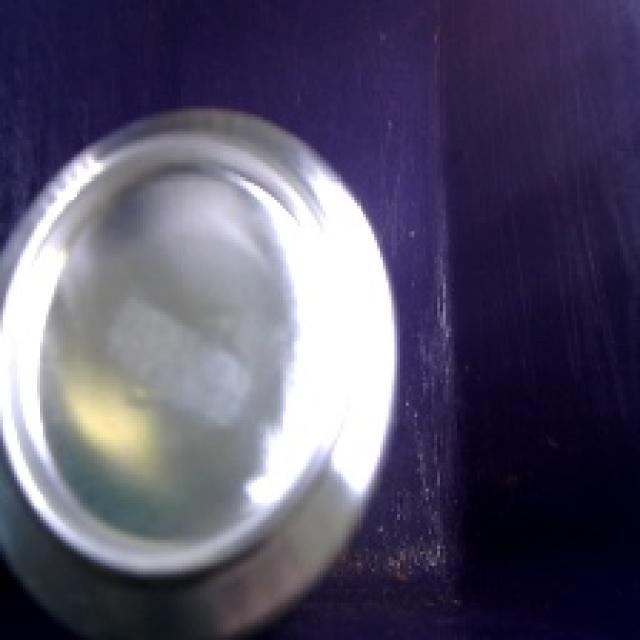metal: (0, 73, 415, 640)
